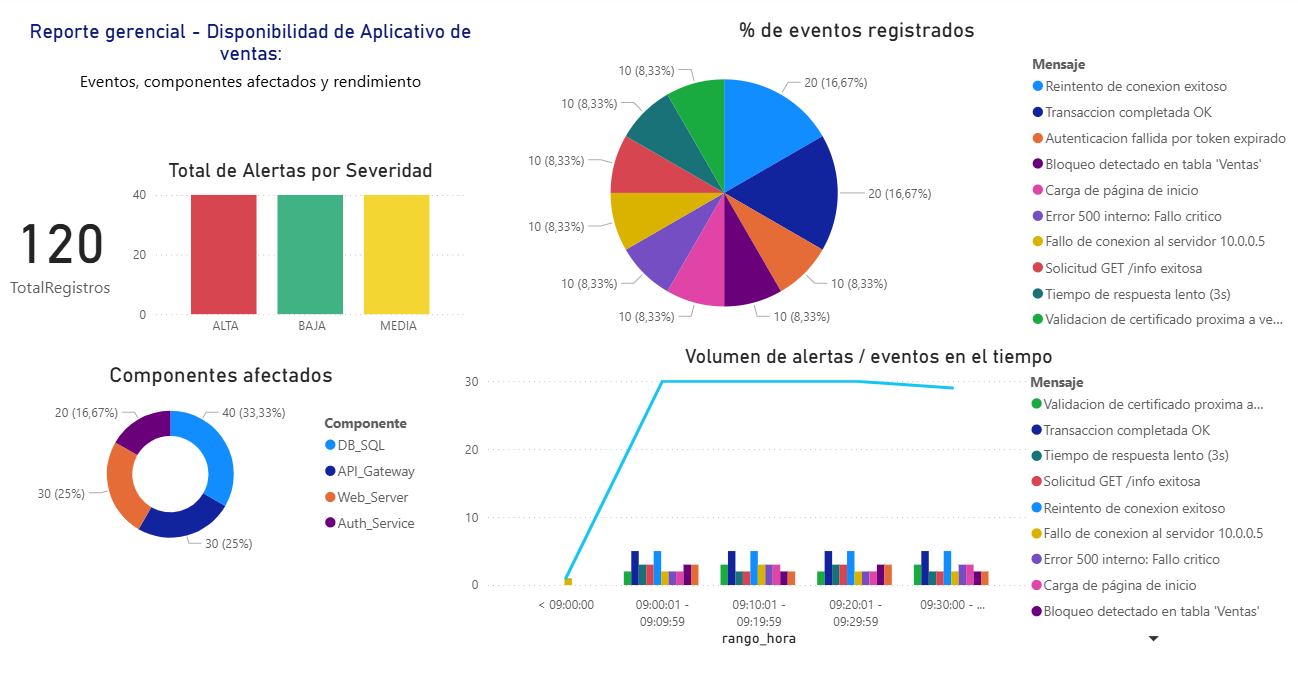

The page's visual inventory and layout, read from the dashboard file:
{"tool":"powerbi","page":{"name":"Página 1","canvas":[1280,720],"ordinal":0},"visuals":[{"type":"pieChart","title":"% de eventos registrados","fields":{"Category":["logs_transacciones.Mensaje"],"Y":["CountNonNull(logs_transacciones.Mensaje)"]},"box":[409.6,22,870.7,320.4],"z":0},{"type":"clusteredColumnChart","title":"Total de Alertas por Severidad","fields":{"Category":["logs_transacciones.Severidad"],"Y":["CountNonNull(logs_transacciones.Severidad)"]},"box":[132.1,160.2,337.5,182.2],"z":1000},{"type":"card","fields":{"Values":["logs_transacciones.Medida"]},"box":[0,182.2,132.1,129.6],"z":2000},{"type":"donutChart","title":"Componentes afectados","fields":{"Category":["logs_transacciones.Componente"],"Y":["CountNonNull(logs_transacciones.Severidad)"]},"box":[18.3,359.5,409.6,195.7],"z":3000},{"type":"textbox","title":"Reporte gerencial - Disponibilidad de Aplicativo de ventas:","box":[18.3,24.5,467.1,100.3],"z":4000},{"type":"lineClusteredColumnComboChart","title":"Volumen de alertas / eventos en el tiempo","fields":{"Y":["CountNonNull(logs_transacciones.Mensaje)"],"Category":["logs_transacciones.rango_hora"],"Y2":["CountNonNull(logs_transacciones.Mensaje)"],"Series":["logs_transacciones.Mensaje"]},"box":[455.4,342.6,803.6,299.8],"z":5000}]}

Visuals, with their boxes on the page's 1280x720 design canvas (x1, y1, x2, y2). These are canvas units, not pixel positions in the 1298x677 screenshot, which may show the page scaled, cropped or inside an application window:
"% de eventos registrados" pieChart: left=410, top=22, right=1280, bottom=342
"Total de Alertas por Severidad" clusteredColumnChart: left=132, top=160, right=470, bottom=342
card - logs_transacciones.Medida: left=0, top=182, right=132, bottom=312
"Componentes afectados" donutChart: left=18, top=360, right=428, bottom=555
"Reporte gerencial - Disponibilidad de Aplicativo de ventas:" textbox: left=18, top=24, right=485, bottom=125
"Volumen de alertas / eventos en el tiempo" lineClusteredColumnComboChart: left=455, top=343, right=1259, bottom=642
